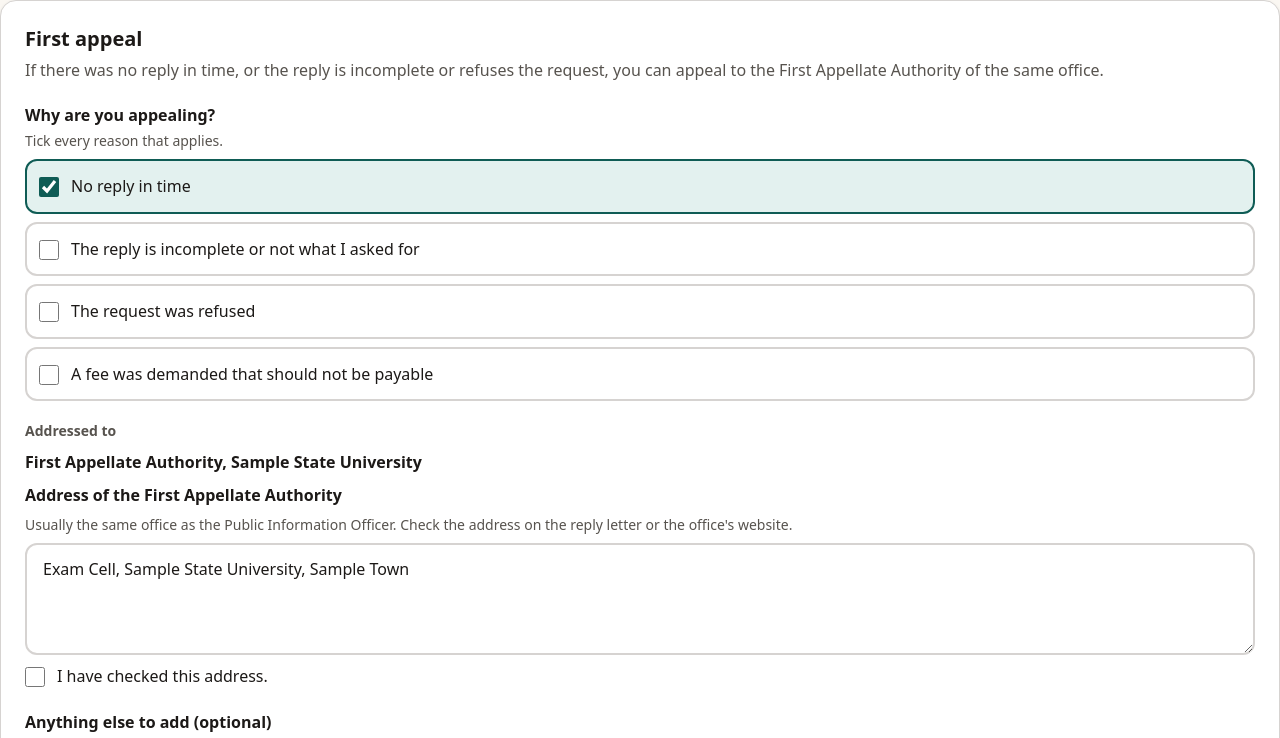
Test: AppealPanel › sends the grounds, address, details and place, and saves the PDF
The image size is (1280, 738).
Click the checkbox labelled "A fee was demanded that should not be payable".
click(49, 375)  # box [39, 365, 59, 385]
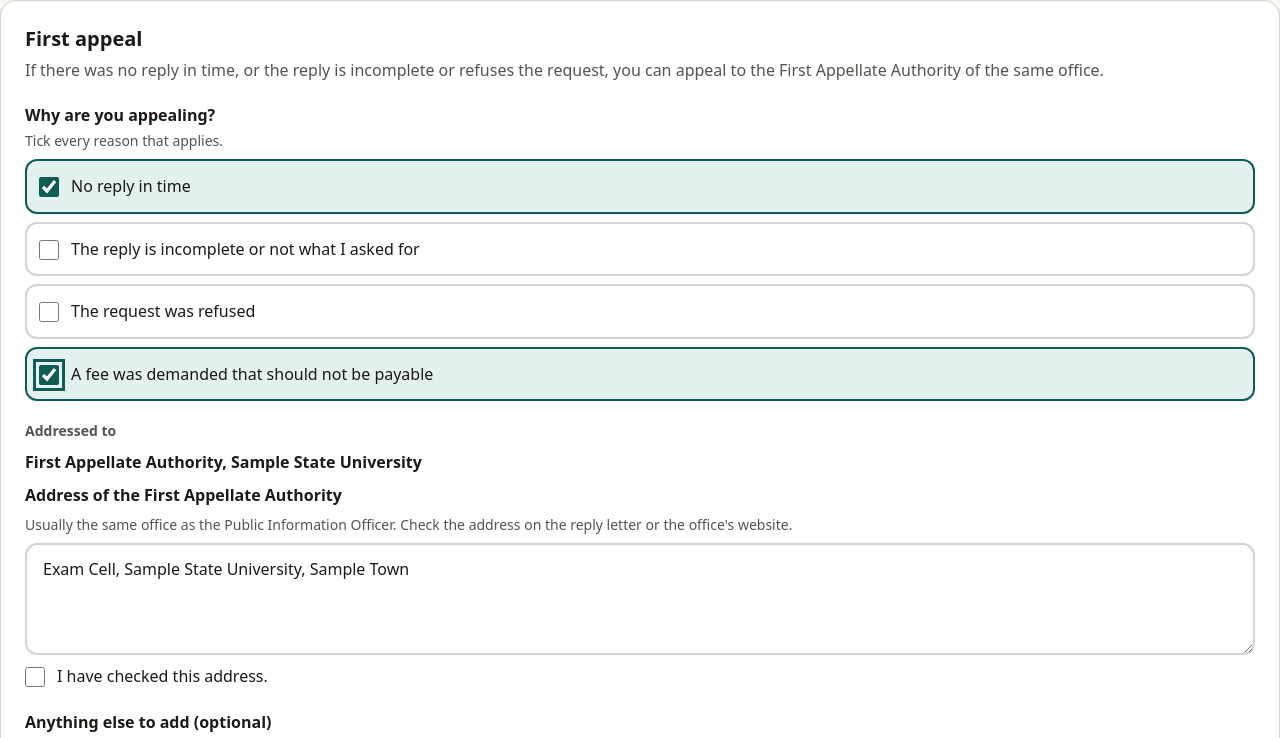
Click the checkbox labelled "I have checked this address.".
click(35, 677)  # box [25, 667, 45, 687]
(page scrolled)
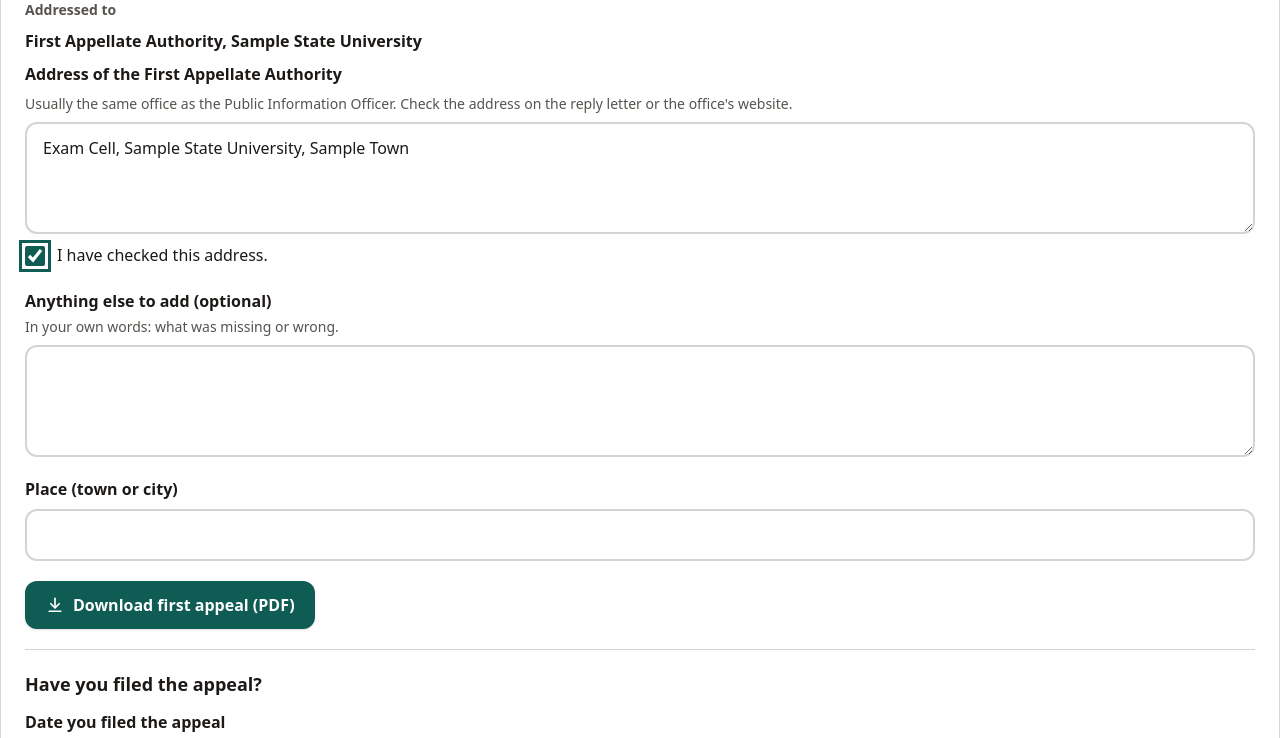
Type "No reply at all." into the text box labelled "Anything else to add (optional)".
click(640, 401); type("No reply at all.")  # box [25, 345, 1255, 457]
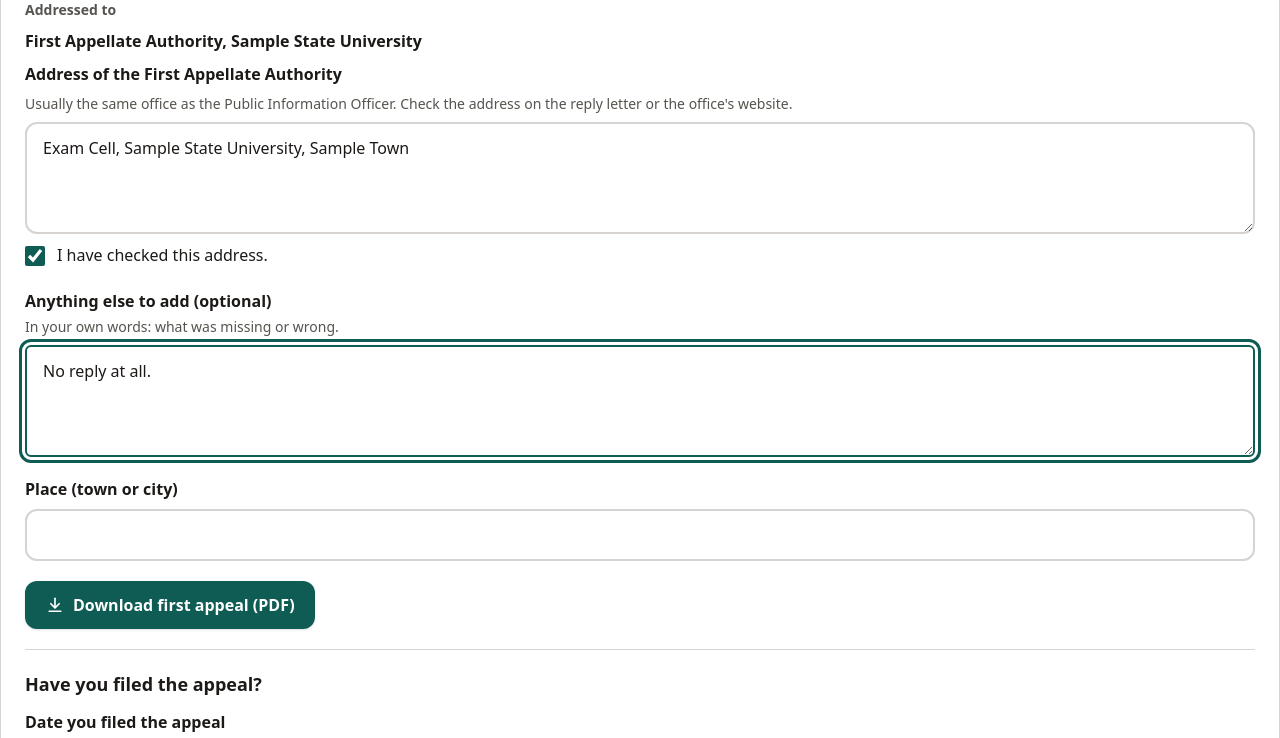
Type "Sample Town" into the field labelled "Place (town or city)".
click(640, 535); type("Sample Town")  # box [25, 509, 1255, 561]
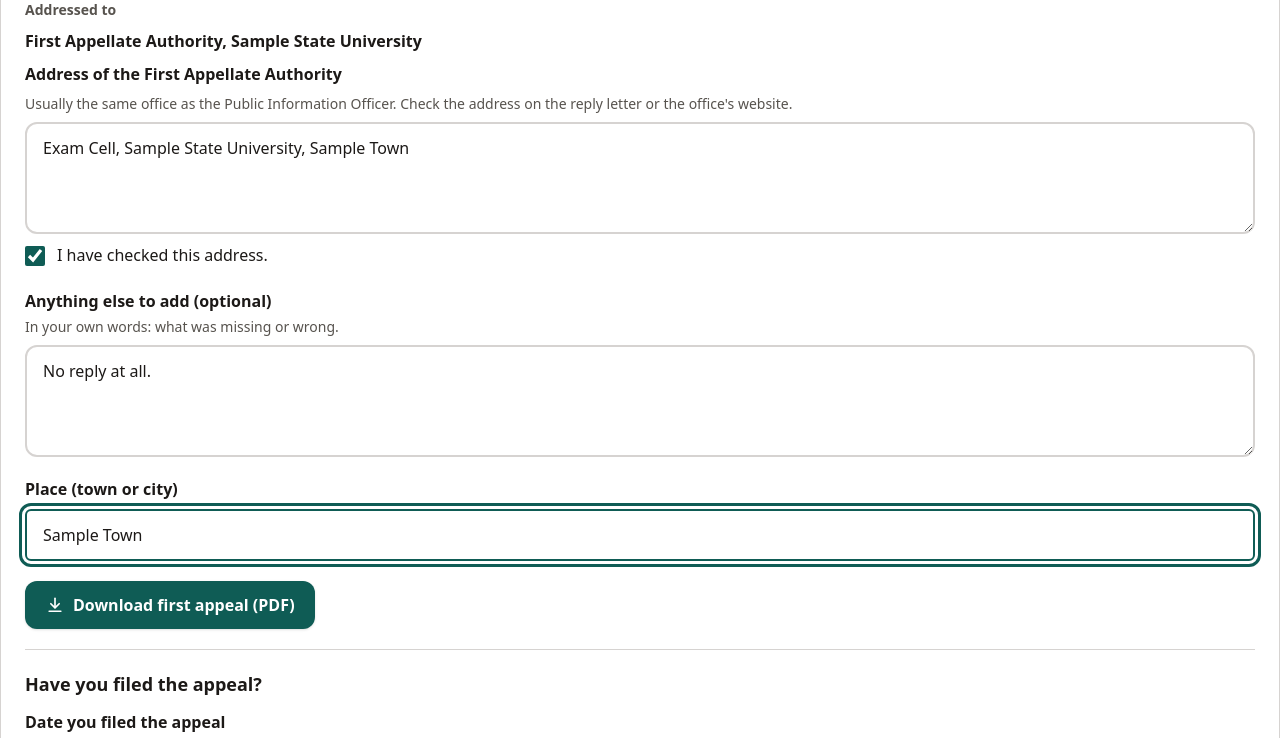
Click the button "Download first appeal (PDF)".
click(170, 605)  # box [25, 581, 315, 629]
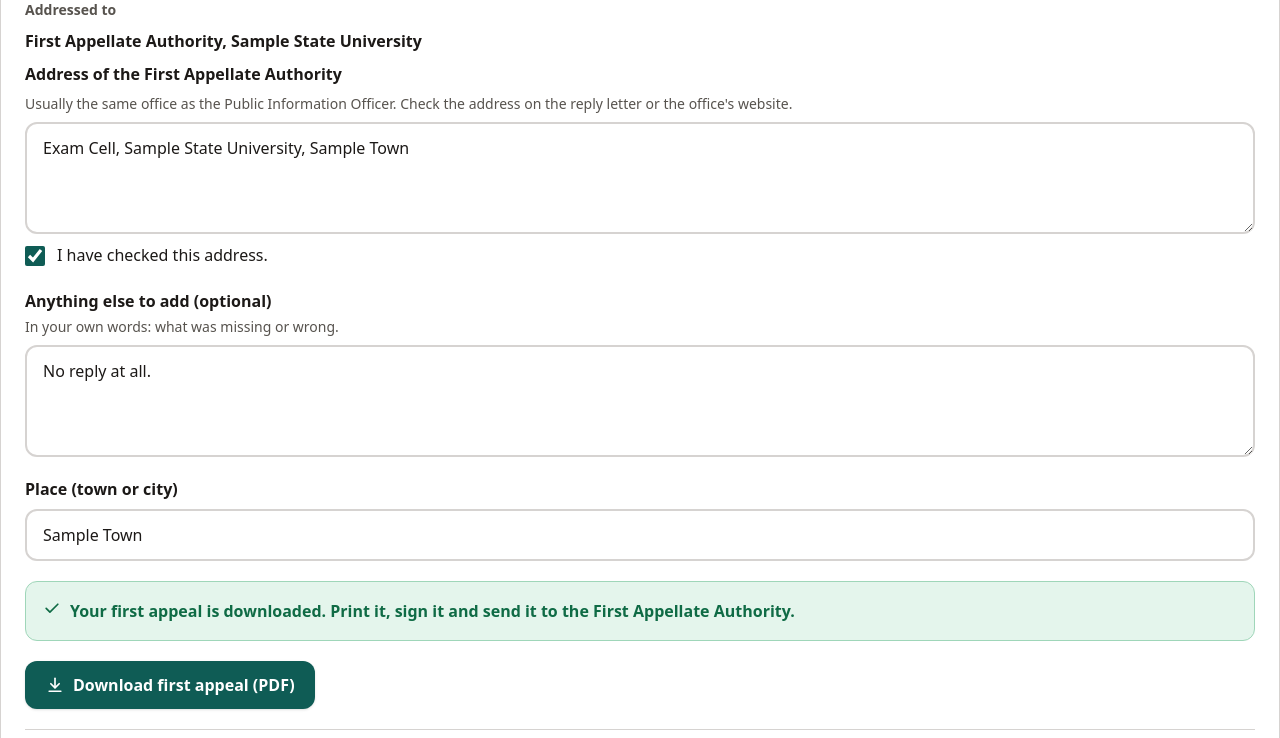
Expected: the text "Your first appeal is downloaded" is shown, [70, 600, 795, 622]
